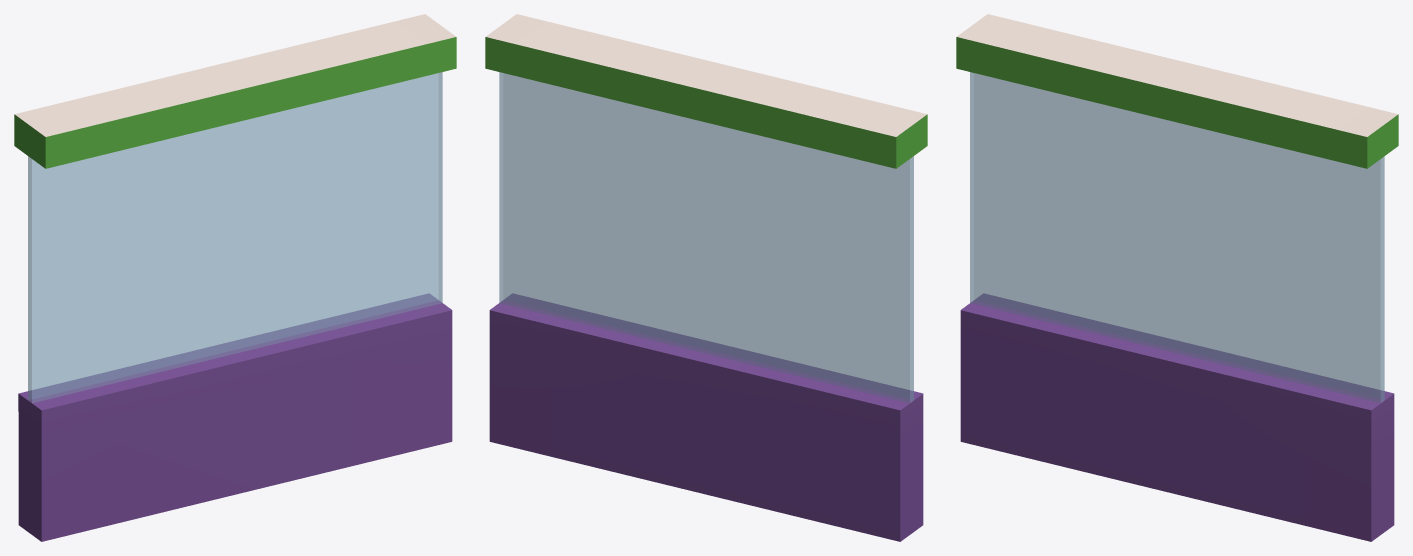
Rendered from M1_Wall_02_Glass.fbx.
The picture shows the model from 3 angles, left to right: view 1: azimuth 30°, elevation 25°; view 2: azimuth 150°, elevation 25°; view 3: azimuth 330°, elevation 25°; orthographic projection.
Visible parts, largest first — view 1: M1_Wall_02_Glass; view 2: M1_Wall_02_Glass; view 3: M1_Wall_02_Glass.
Boxes of the visible parts, left/top/right/bottom form: M1_Wall_02_Glass: left=14, top=14, right=456, bottom=541; M1_Wall_02_Glass: left=485, top=14, right=927, bottom=541; M1_Wall_02_Glass: left=956, top=14, right=1398, bottom=541.
Size of the model in its own units: 400 by 380 by 52.74.
